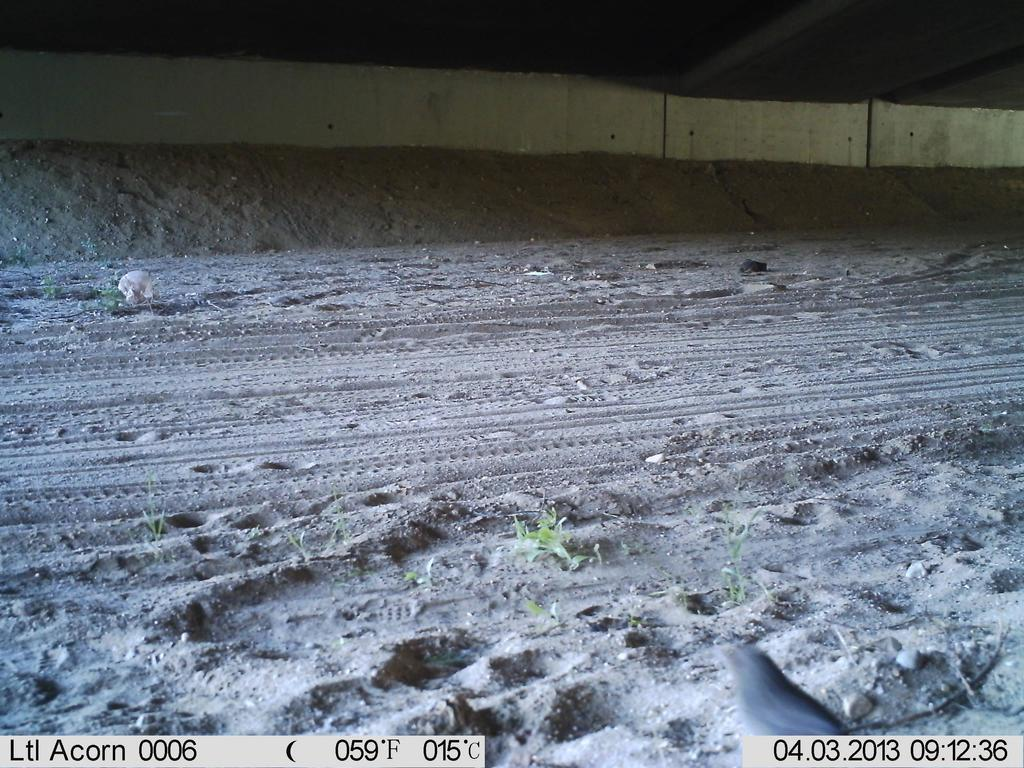bird: (708, 633, 867, 738)
